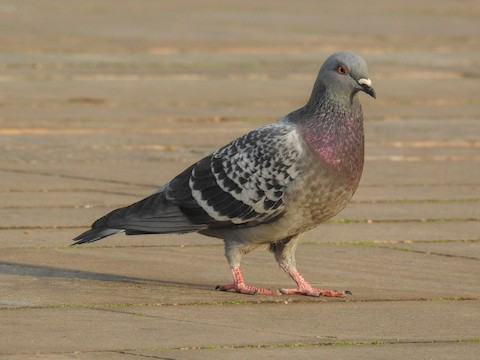pigeon: (64, 43, 383, 307)
